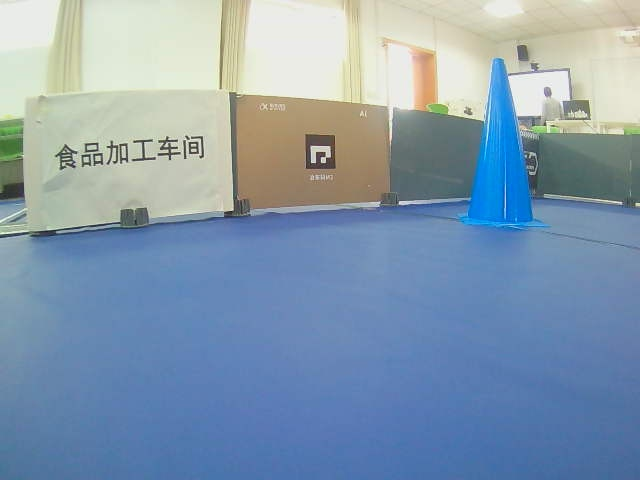target: (54, 134, 206, 170)
